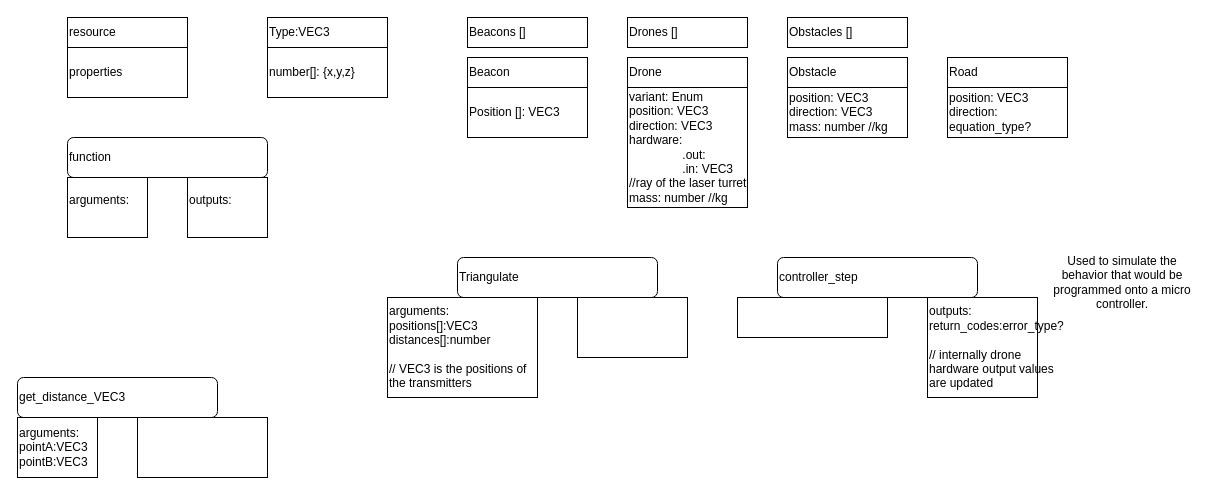
Some shapes in this 1215 by 495 pixel diagram are drawn without their labels. The shapes that lost their labels are listed below. From the top down, each one's box as (x1, y1, x2, y2) in pixels, then its label:
(576, 296, 688, 358): outputs: solutions[]:VEC3
(736, 296, 888, 338): arguments: drones []: drone
(136, 416, 268, 478): outputs: distance:number //Absolute value
